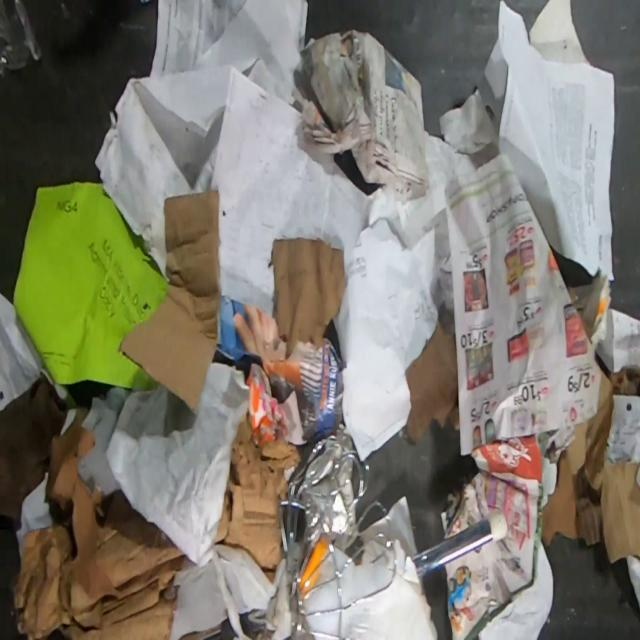cardboard: (10, 409, 187, 640), (116, 189, 220, 412), (538, 348, 640, 565), (214, 416, 304, 585)
metal: (278, 433, 398, 640), (411, 511, 510, 577)
rigid_plastic: (0, 0, 45, 81)
